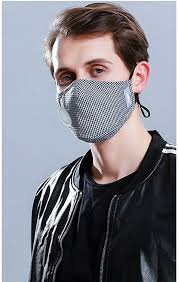mask: (38, 8, 158, 143)
